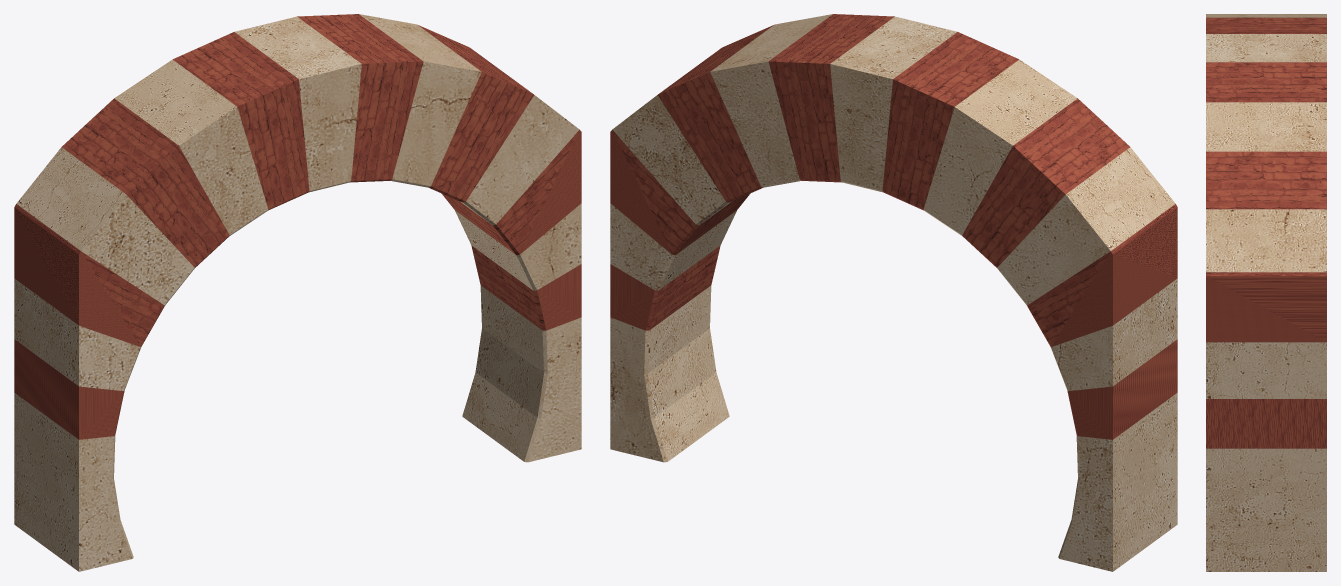
File: Cordoba_Arch1.fbx
The picture shows the model from 3 angles, left to right: view 1: azimuth 30°, elevation 25°; view 2: azimuth 150°, elevation 25°; view 3: azimuth 270°, elevation 25°; orthographic projection. The views are drawn at different scales.
Parts seen in each view (by area): view 1: arch041; view 2: arch041; view 3: arch041.
Part boxes in pixels (left/top/right/bottom): arch041: left=14, top=14, right=581, bottom=571; arch041: left=610, top=14, right=1177, bottom=571; arch041: left=1206, top=14, right=1326, bottom=571.
Size of the model in its own units: 334 by 279 by 74.63.
